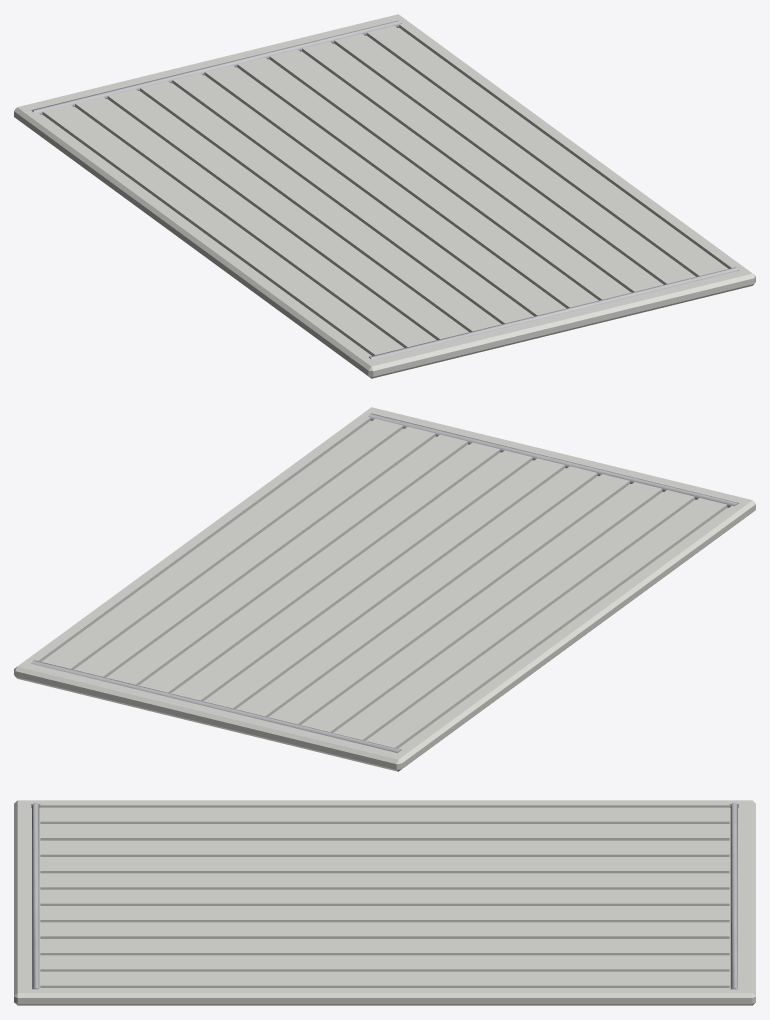
The model's file is ax_power_06_conformal_radiator_l.glb.
The picture shows the model from 3 angles, top to bottom: view 1: azimuth 30°, elevation 25°; view 2: azimuth 150°, elevation 25°; view 3: azimuth 270°, elevation 25°; orthographic projection. The views are drawn at different scales.
Parts seen in each view (by area): view 1: radiator_panel, flow_manifolds; view 2: radiator_panel, flow_manifolds; view 3: radiator_panel, flow_manifolds.
Part boxes in pixels (bbox=[...]): radiator_panel: bbox=[14, 14, 755, 378]; flow_manifolds: bbox=[32, 20, 738, 359]; radiator_panel: bbox=[14, 407, 755, 771]; flow_manifolds: bbox=[31, 413, 737, 752]; radiator_panel: bbox=[14, 800, 755, 1005]; flow_manifolds: bbox=[32, 802, 737, 989].
Bounding box in the file's own units: 1.5 × 0.049 × 2.4.
2 materials, 1 textured.
